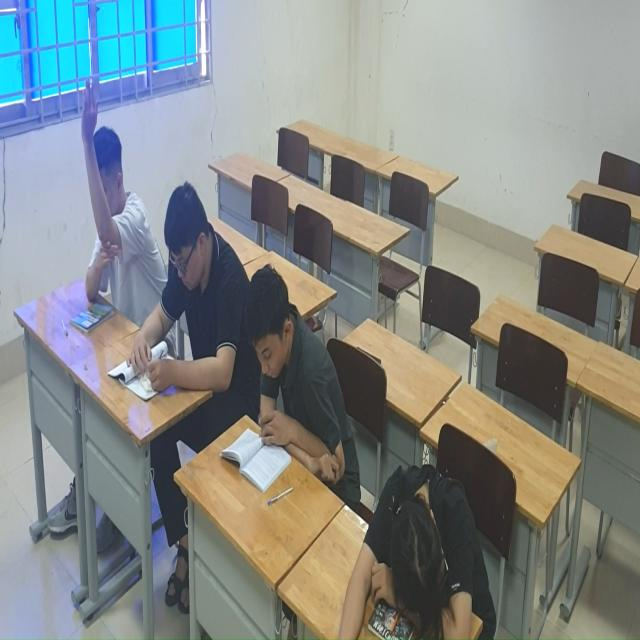raise_hand: (69, 47, 159, 350)
read: (222, 252, 351, 504), (113, 184, 225, 431)
sleep: (332, 451, 516, 640)
